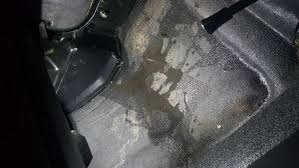Wet-floor: (118, 31, 234, 161)
